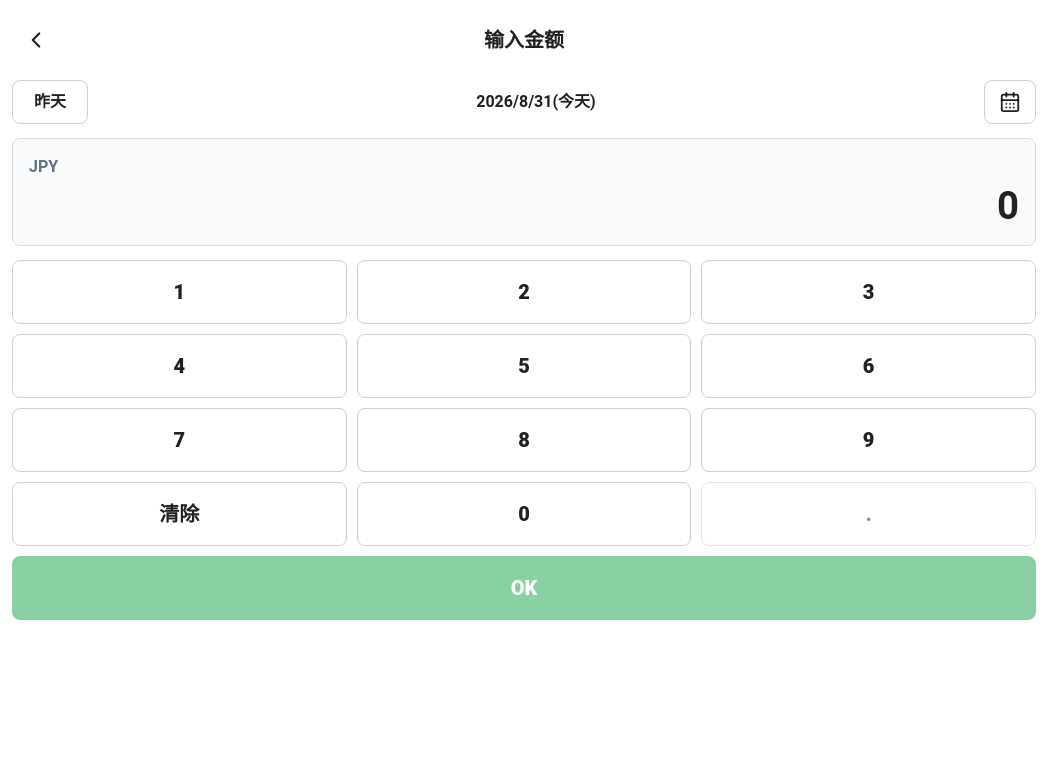
Test: WizardFlow › advances from amount to category after keypad OK
Expected: the element with class "keypad" is shown, [12,260,1036,620]
Click the button "1". click: coordinates (179, 292)
box: [12,260,347,324]
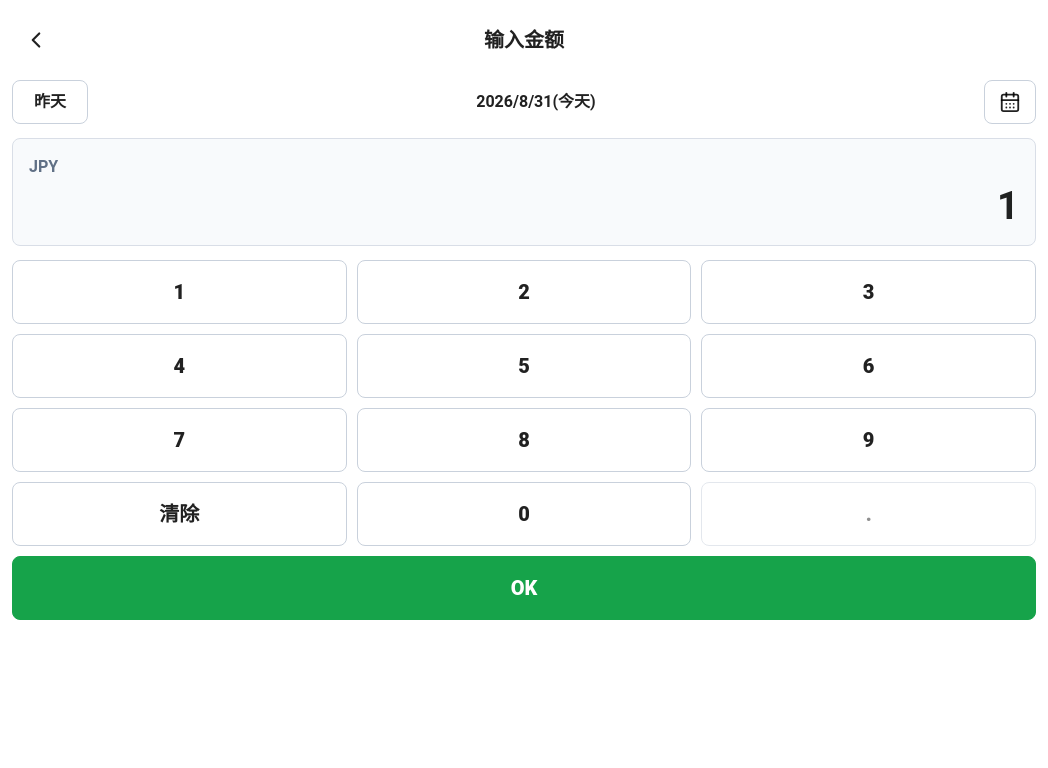
Click the button "2". click: coordinates (524, 292)
box: [357,260,691,324]
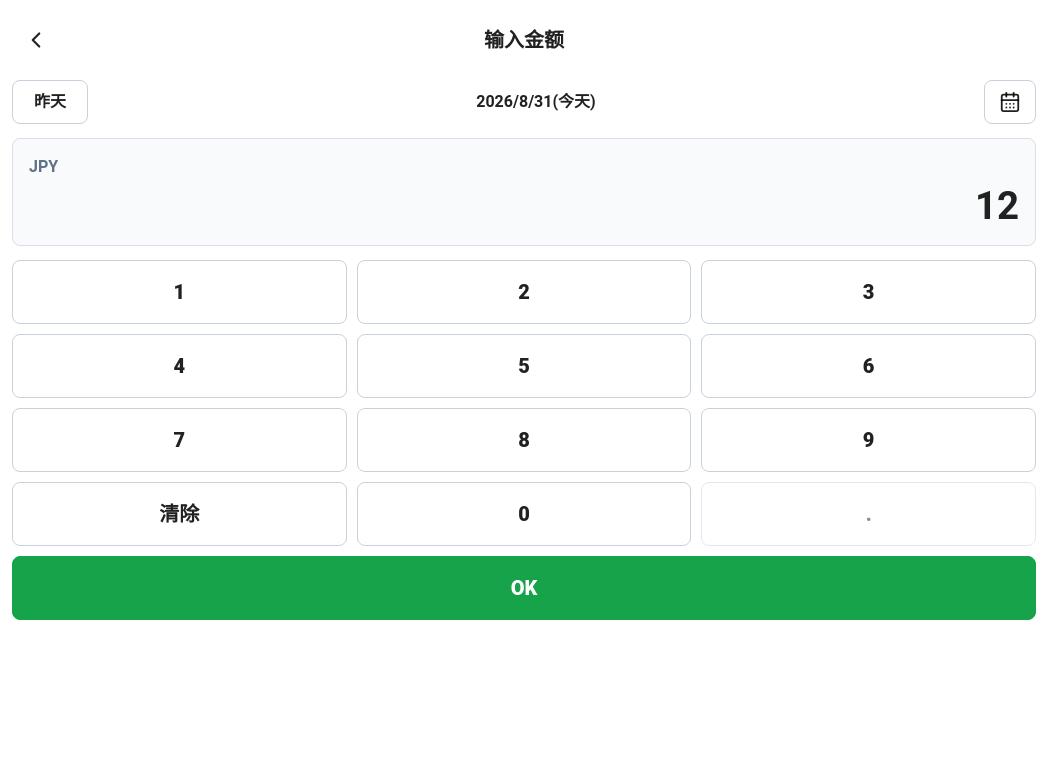
Click the button "0". click: coordinates (524, 514)
box: [357,482,691,546]
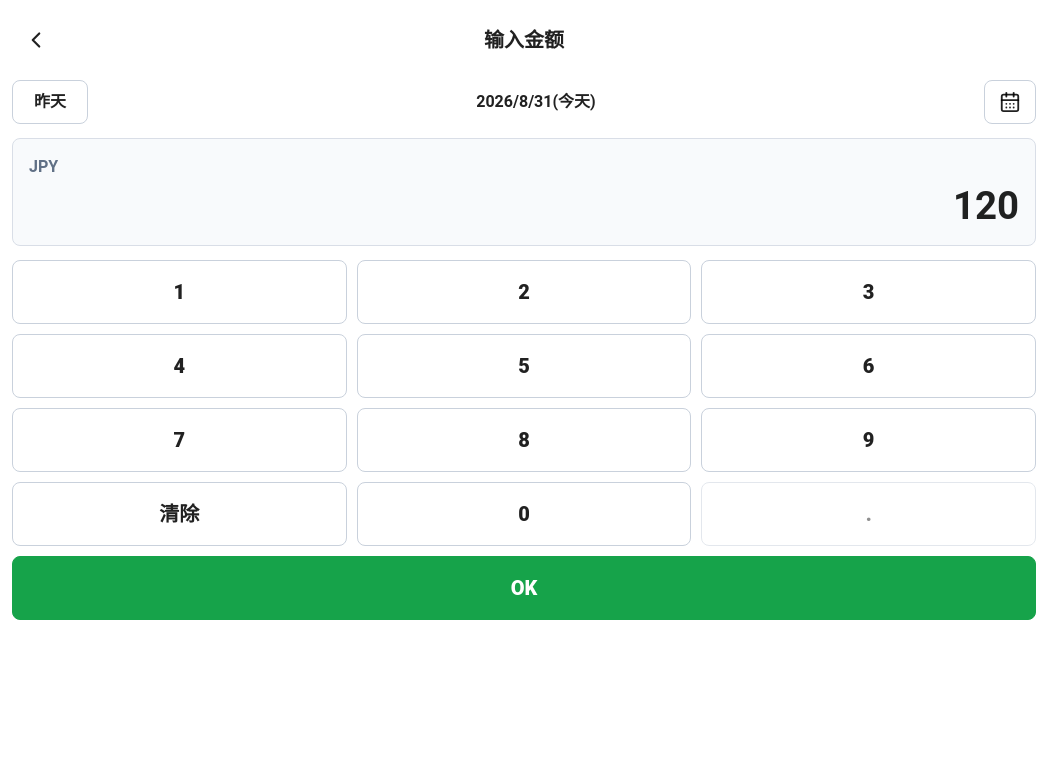
Click the button "0". click: coordinates (524, 514)
box: [357,482,691,546]
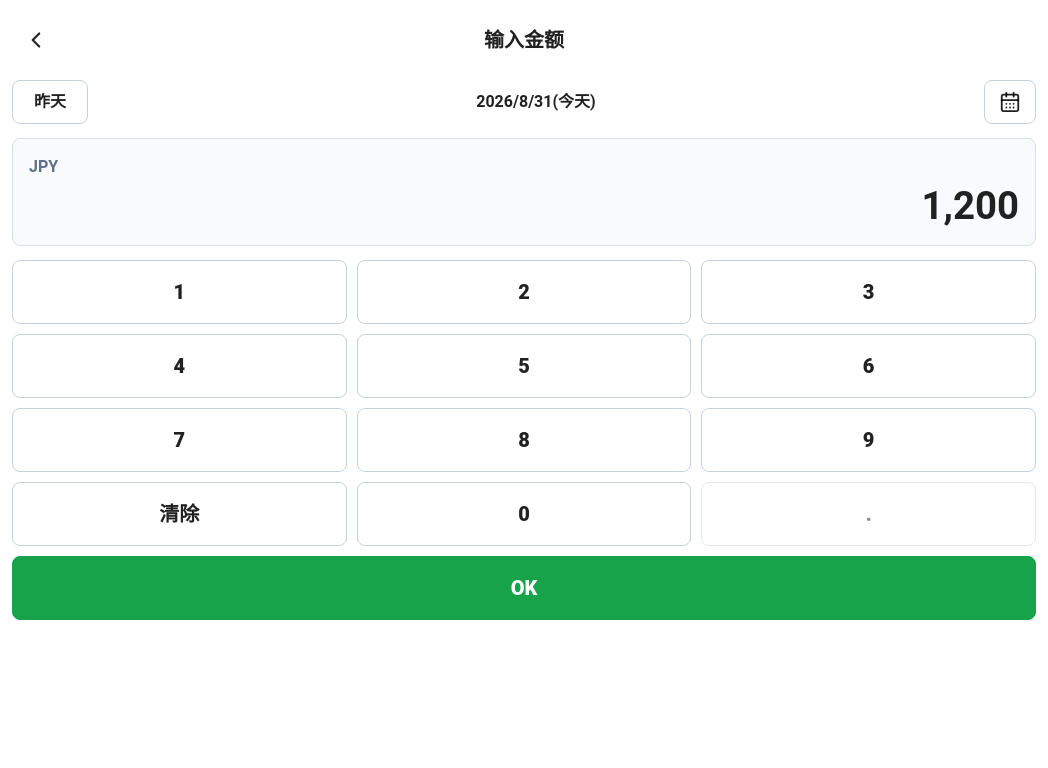
Expected: the text "1,200" is shown, [922,183,1019,228]
Click the button "OK". click: coordinates (524, 588)
box: [12,556,1036,620]
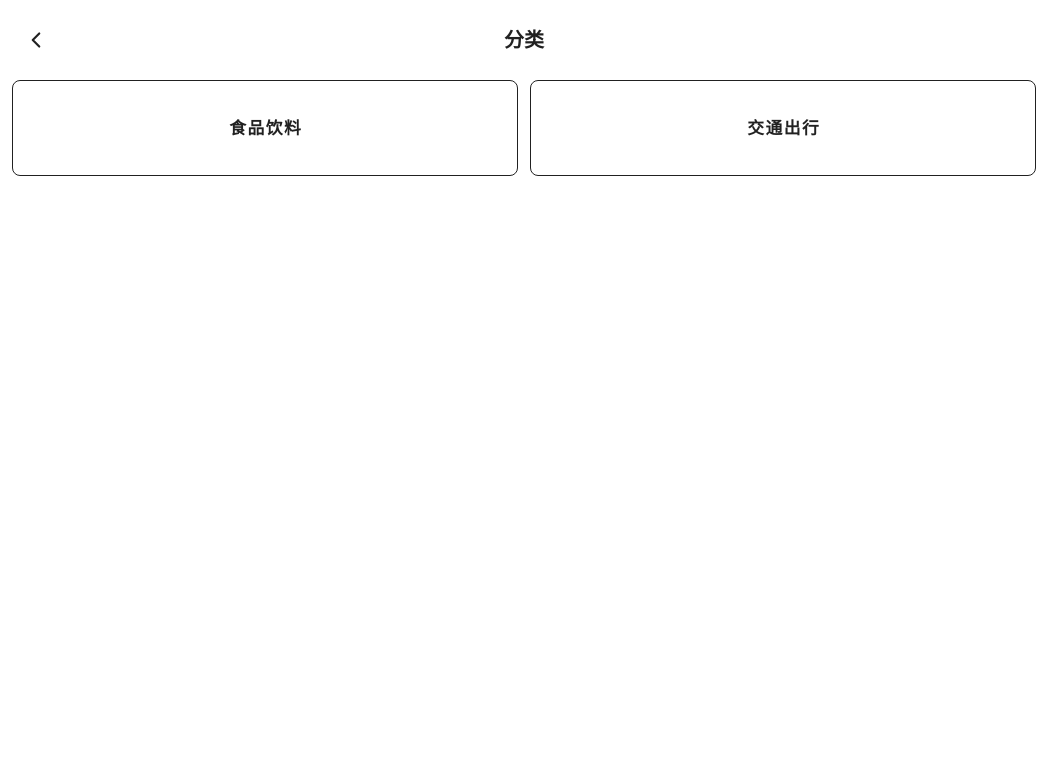
Expected: the text "分类" is shown, [504,28,544,52]
